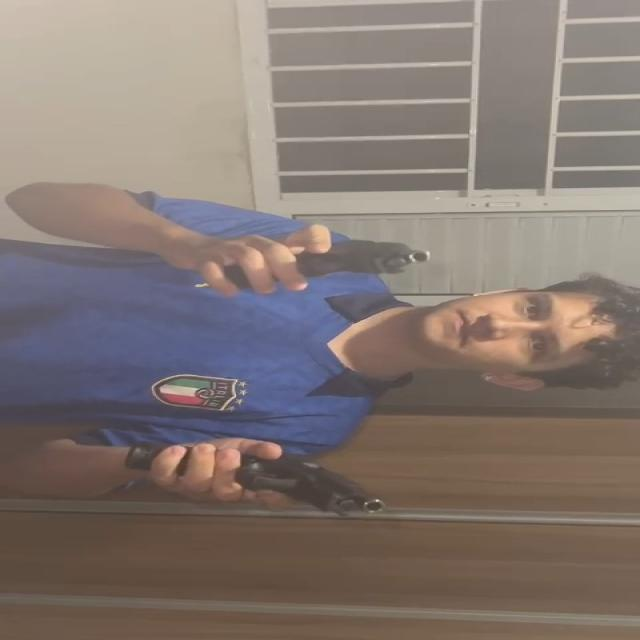gun: (132, 445, 386, 515), (298, 237, 428, 274)
